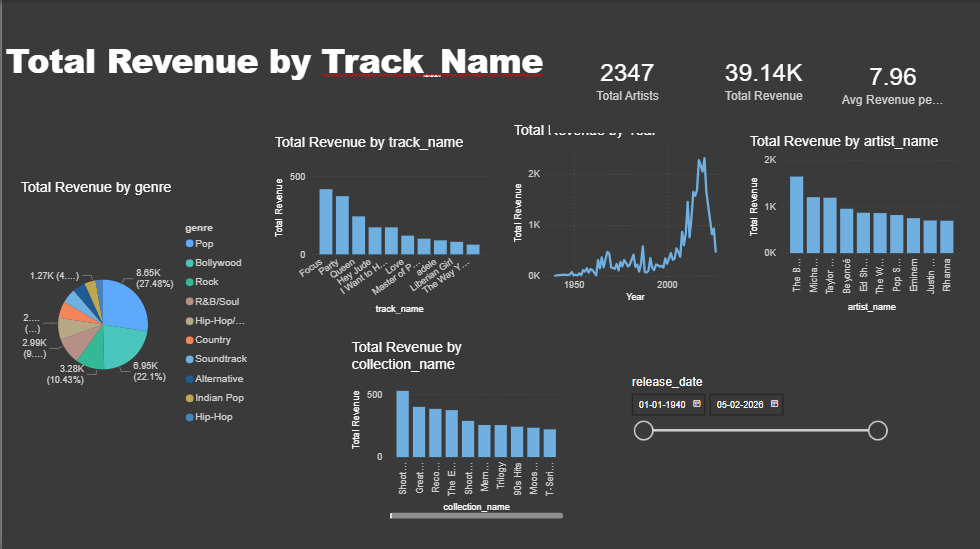

This screenshot's page, from the dashboard's own definition file:
{"tool":"powerbi","page":{"name":"Page 1","canvas":[1280,720],"ordinal":0},"visuals":[{"type":"card","fields":{"Values":["itunes_music_dataset.Total Revenue"]},"box":[903.7,30.2,188.1,144.5],"z":0},{"type":"pieChart","fields":{"Y":["itunes_music_dataset.Total Revenue"],"Category":["itunes_music_dataset.genre"]},"box":[19.4,234.5,318.2,360],"z":1000},{"type":"clusteredColumnChart","fields":{"Category":["itunes_music_dataset.track_name"],"Y":["itunes_music_dataset.Total Revenue"]},"box":[352.5,174.8,286.8,240.5],"z":2000},{"type":"clusteredColumnChart","fields":{"Category":["itunes_music_dataset.collection_name"],"Y":["itunes_music_dataset.Total Revenue"]},"box":[452.6,443.7,286.8,240.5],"z":3000},{"type":"lineChart","fields":{"Category":["itunes_music_dataset.release_date.Variation.Date Hierarchy.Year"],"Y":["itunes_music_dataset.Total Revenue"]},"box":[664.7,159.8,288.3,240.5],"z":4000},{"type":"clusteredColumnChart","fields":{"Category":["itunes_music_dataset.artist_name"],"Y":["itunes_music_dataset.Total Revenue"]},"box":[974.3,174.7,285.6,240.2],"z":5000},{"type":"card","fields":{"Values":["itunes_music_dataset.Total Artists"]},"box":[717.4,30.1,202.9,144],"z":6000},{"type":"textbox","box":[0,43.7,717.3,114.2],"z":7000},{"type":"card","fields":{"Values":["itunes_music_dataset.Avg Revenue per Track"]},"box":[1091.8,43.2,149.2,129.6],"z":8000},{"type":"slicer","fields":{"Values":["itunes_music_dataset.release_date"]},"box":[811.3,485.5,356.1,198.2],"z":9000}]}

Visuals, with their boxes in screenshot pixels (x1, y1, x2, y2), scaled from the page's 1280x720 canvas onto the 980x549 screenshot:
card - itunes_music_dataset.Total Revenue: l=692, t=23, r=836, b=133
pieChart - itunes_music_dataset.Total Revenue x itunes_music_dataset.genre: l=15, t=179, r=258, b=453
clusteredColumnChart - itunes_music_dataset.track_name x itunes_music_dataset.Total Revenue: l=270, t=133, r=489, b=317
clusteredColumnChart - itunes_music_dataset.collection_name x itunes_music_dataset.Total Revenue: l=347, t=338, r=566, b=522
lineChart - itunes_music_dataset.release_date.Variation.Date Hierarchy.Year x itunes_music_dataset.Total Revenue: l=509, t=122, r=730, b=305
clusteredColumnChart - itunes_music_dataset.artist_name x itunes_music_dataset.Total Revenue: l=746, t=133, r=965, b=316
card - itunes_music_dataset.Total Artists: l=549, t=23, r=705, b=133
textbox: l=0, t=33, r=549, b=120
card - itunes_music_dataset.Avg Revenue per Track: l=836, t=33, r=950, b=132
slicer - itunes_music_dataset.release_date: l=621, t=370, r=894, b=521
